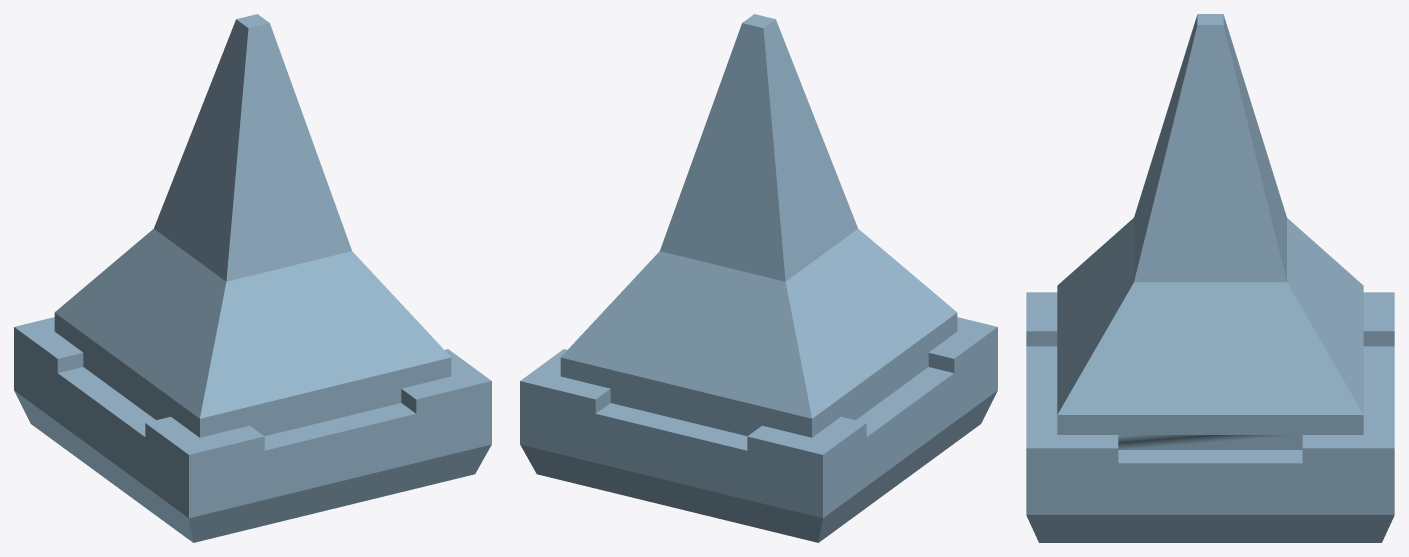
Rendered from towerSquareTopRoofHigh.fbx.
3 views of the same model, side by side, from view 1: azimuth 30°, elevation 25°; view 2: azimuth 150°, elevation 25°; view 3: azimuth 270°, elevation 25° (orthographic). The views are drawn at different scales.
Visible parts, largest first — view 1: towerSquareTopRoofHigh; view 2: towerSquareTopRoofHigh; view 3: towerSquareTopRoofHigh.
Boxes of the visible parts, bbox=[...] form: towerSquareTopRoofHigh: bbox=[14, 14, 491, 542]; towerSquareTopRoofHigh: bbox=[520, 14, 997, 542]; towerSquareTopRoofHigh: bbox=[1026, 14, 1394, 542].
Bounding box in the file's own units: 300 × 405 × 300.
